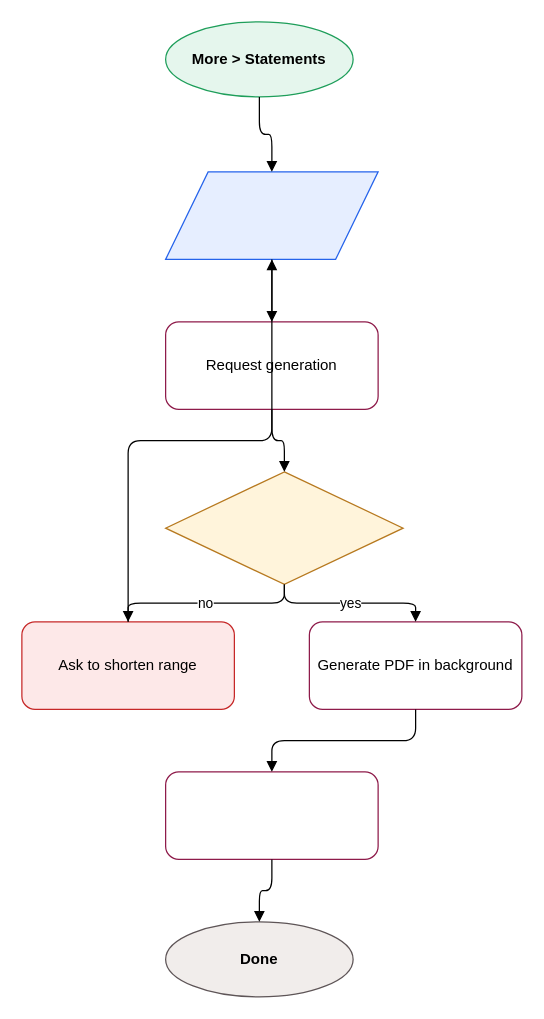
This 544x1019 diagram has some shape labels left out. The shapes that lost their labels are listed below. From the top down, each one's centre as x and y in pixels, then its label:
At pixel 271 215: "Select date range".
At pixel 283 527: "Range OK?".
At pixel 271 815: "Download or email to user".
